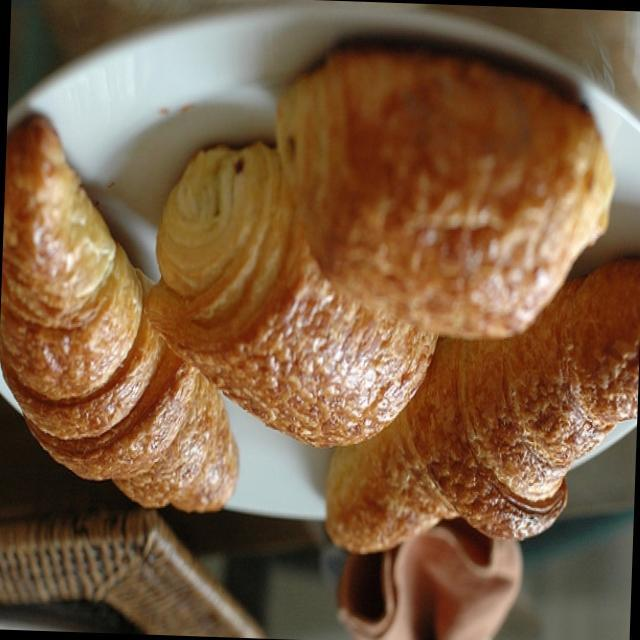Bread: (317, 249, 640, 574)
